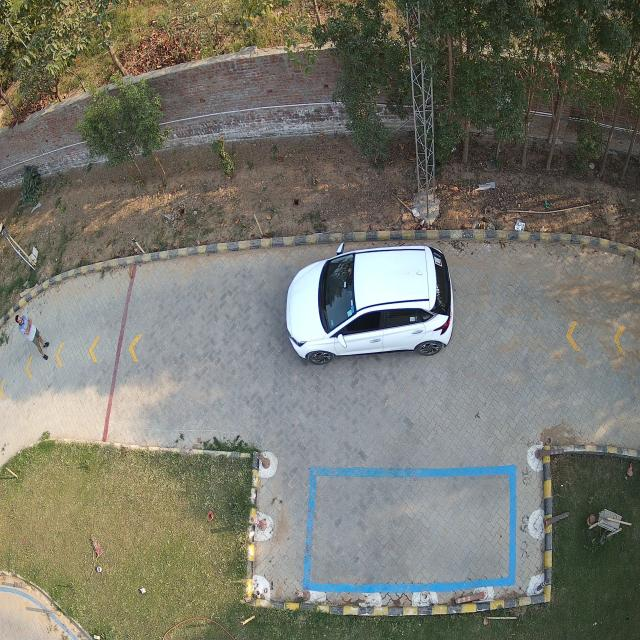car: (286, 245, 454, 365)
